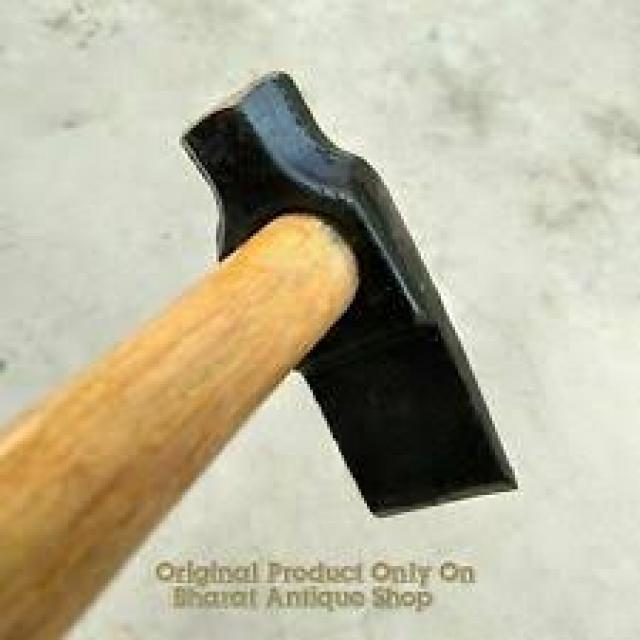hammer: (0, 59, 520, 640)
